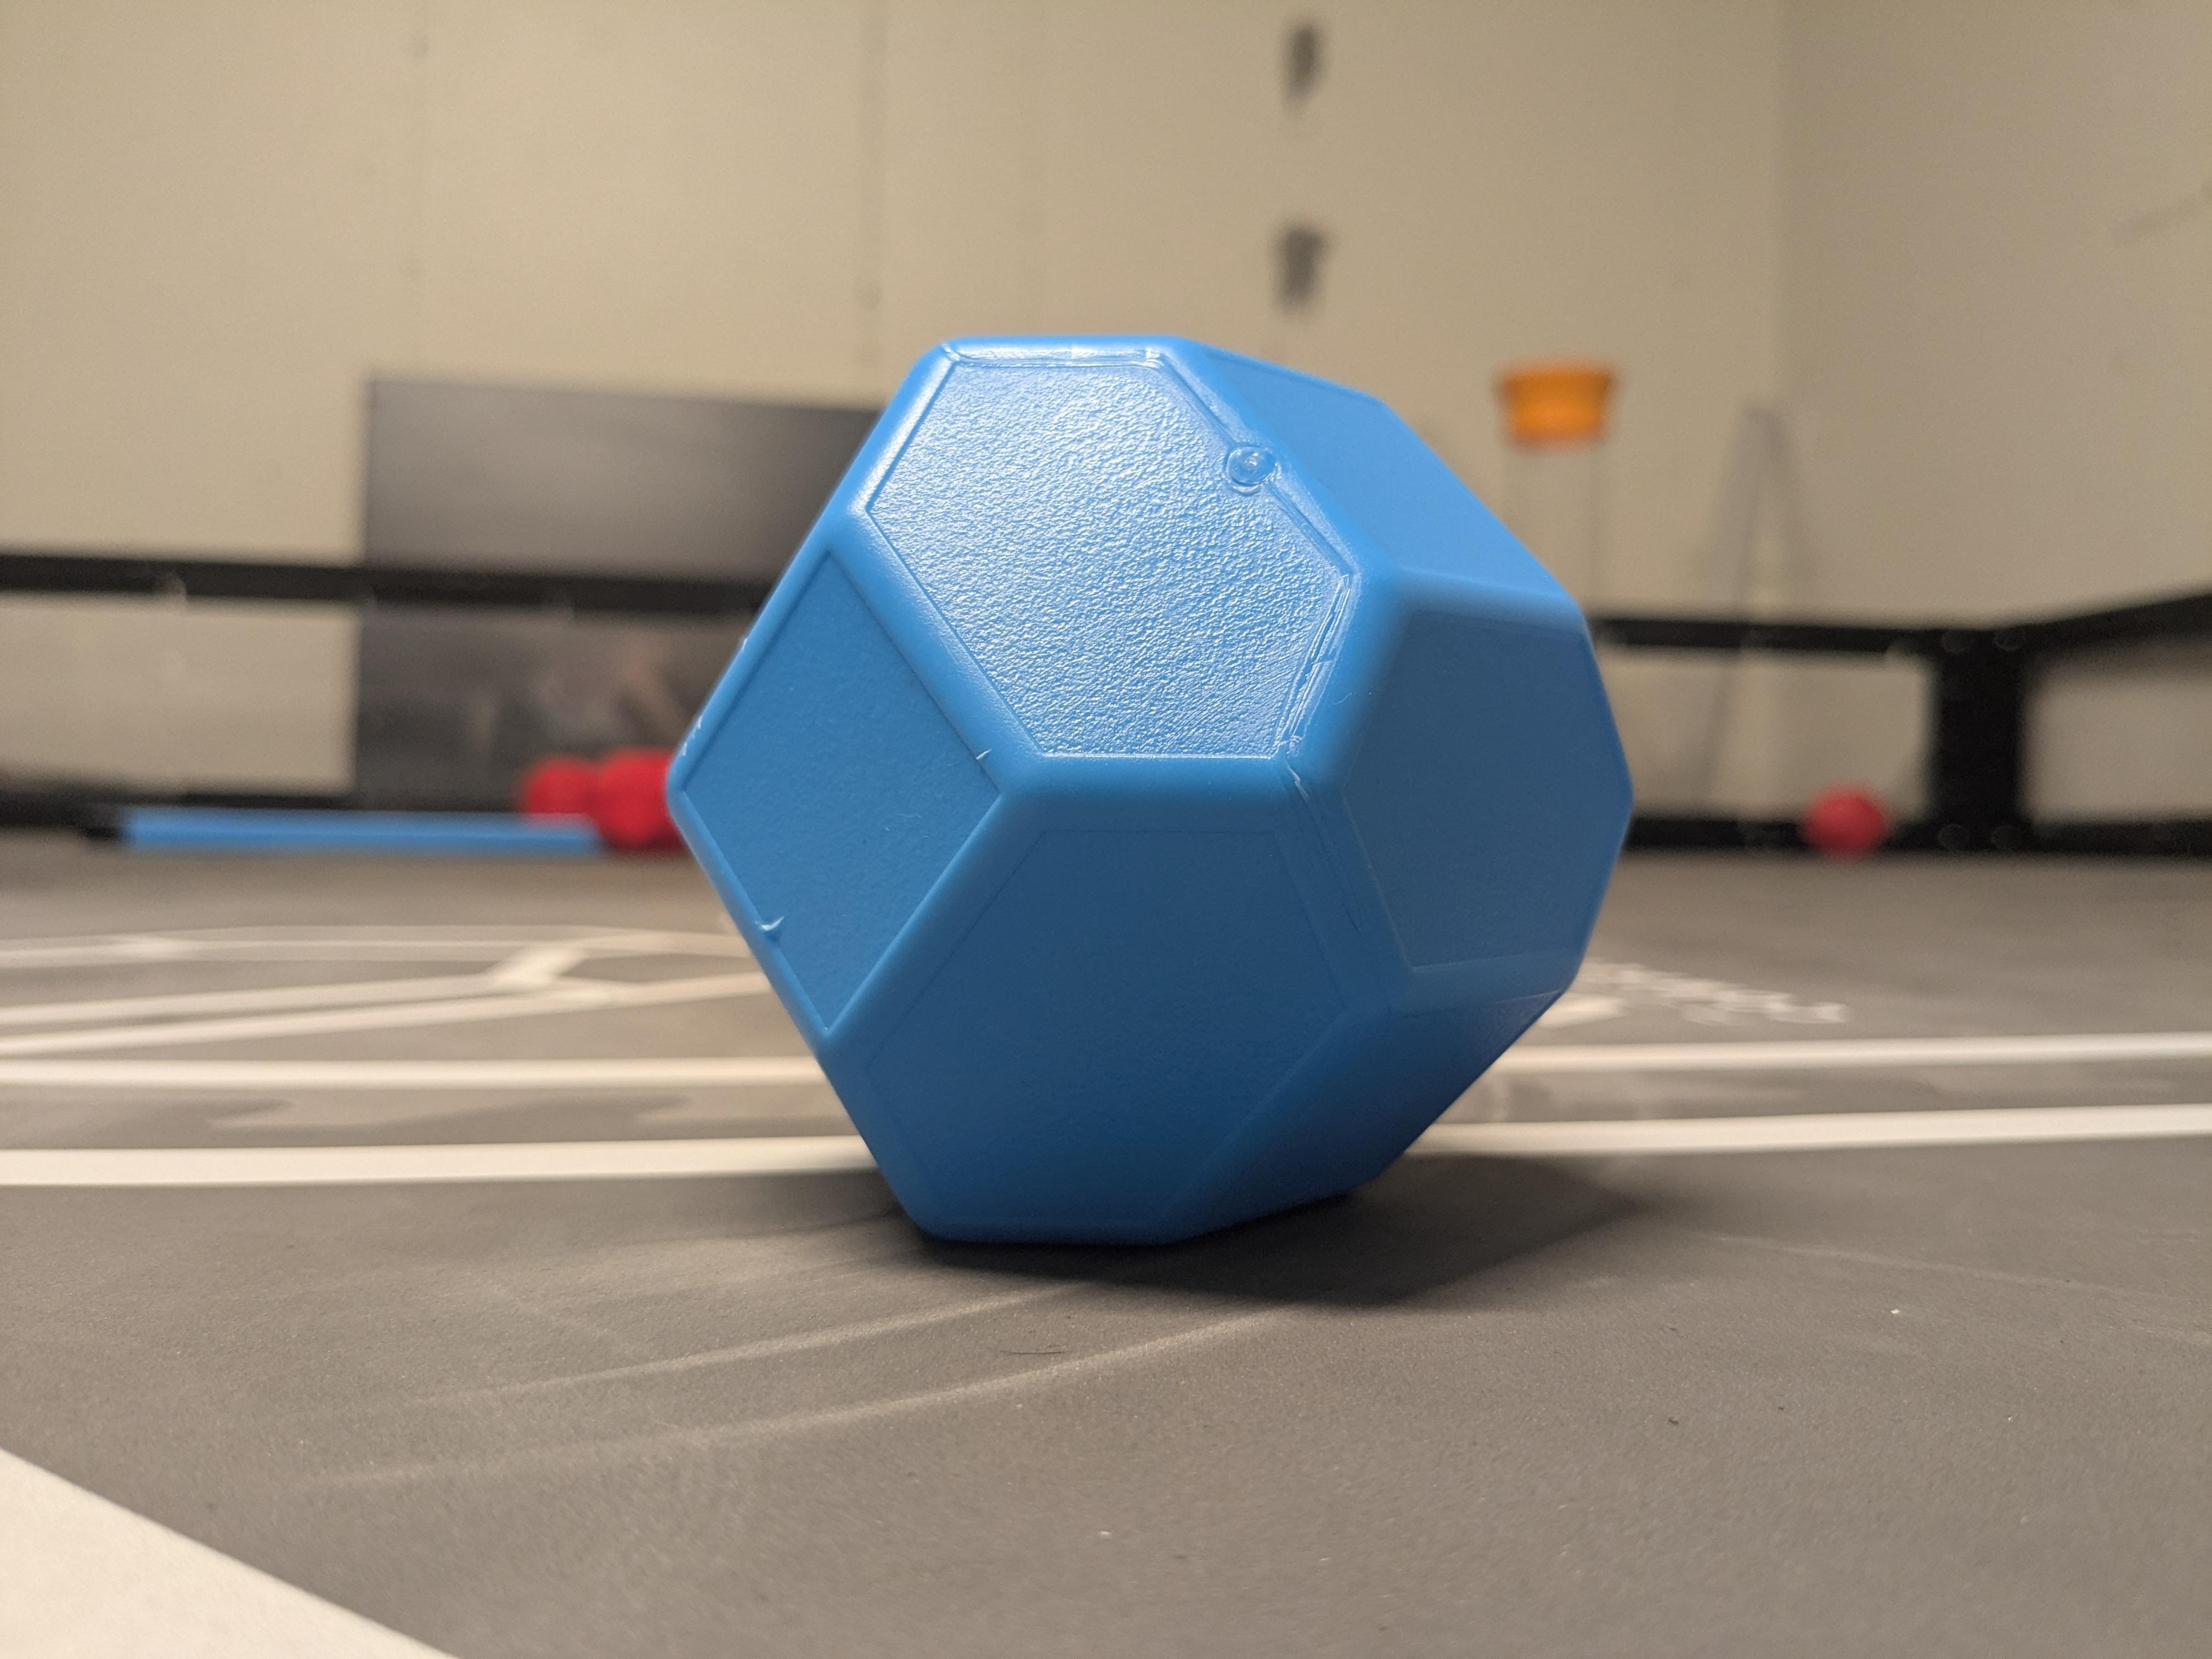Vex-Pieces-BLUE: (681, 331, 1609, 1256)
